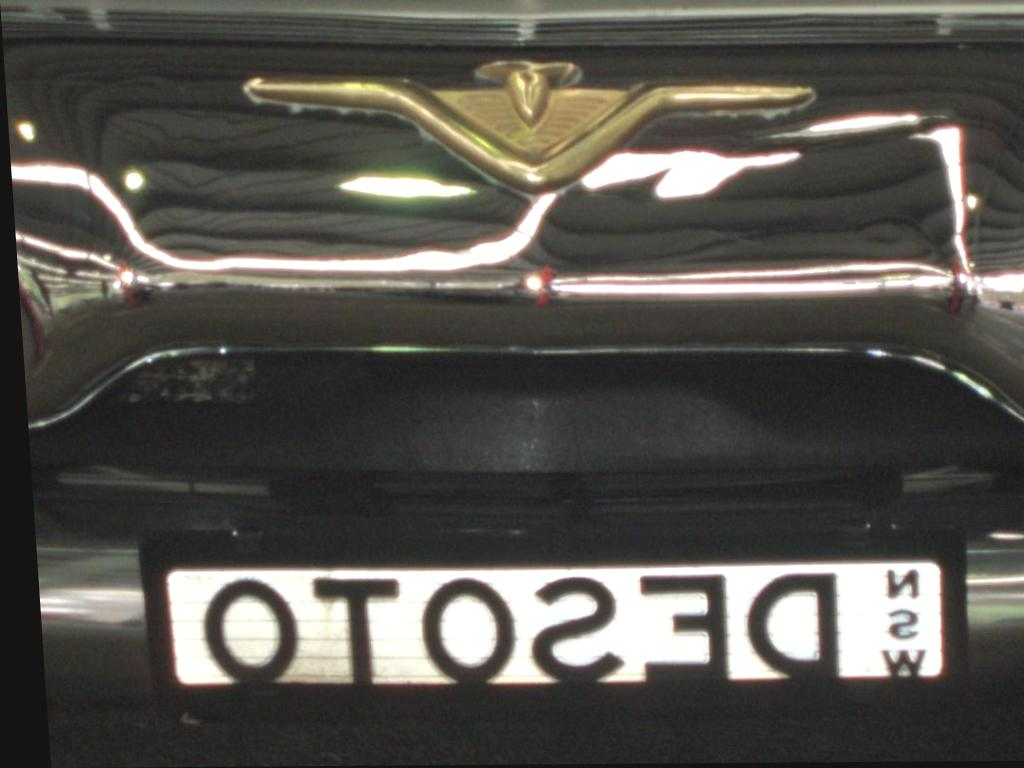License_Plate: (165, 557, 954, 688)
